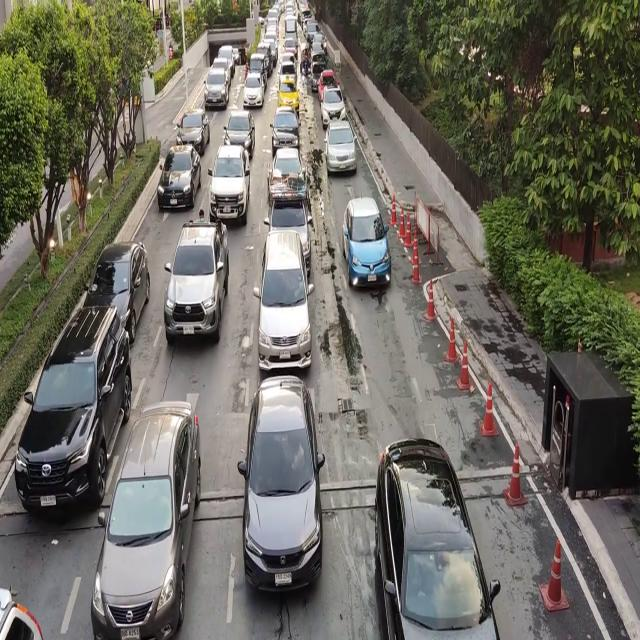car: (93, 404, 202, 634), (374, 432, 496, 630), (26, 307, 134, 522), (244, 371, 326, 588), (166, 214, 230, 340), (259, 232, 312, 370), (88, 242, 152, 336), (344, 194, 393, 286), (210, 140, 250, 218), (264, 180, 312, 245), (157, 144, 196, 212), (326, 119, 358, 174), (255, 374, 309, 403), (176, 113, 208, 151), (206, 59, 231, 107), (272, 148, 304, 178), (272, 112, 299, 144), (321, 85, 346, 119), (243, 74, 265, 106), (278, 80, 300, 110), (319, 71, 339, 89)
